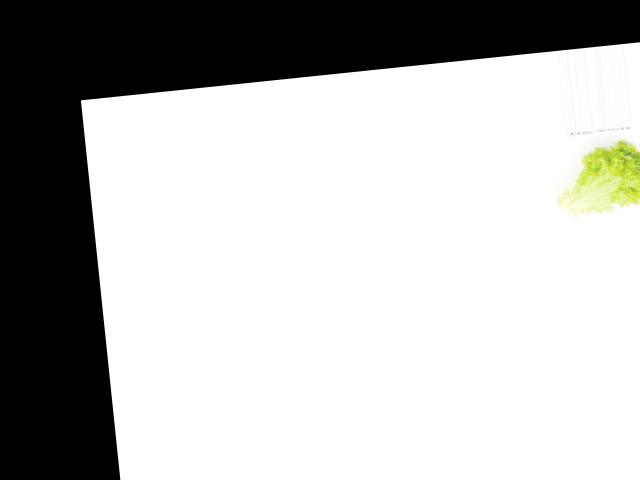lettuce: (552, 137, 640, 221)
